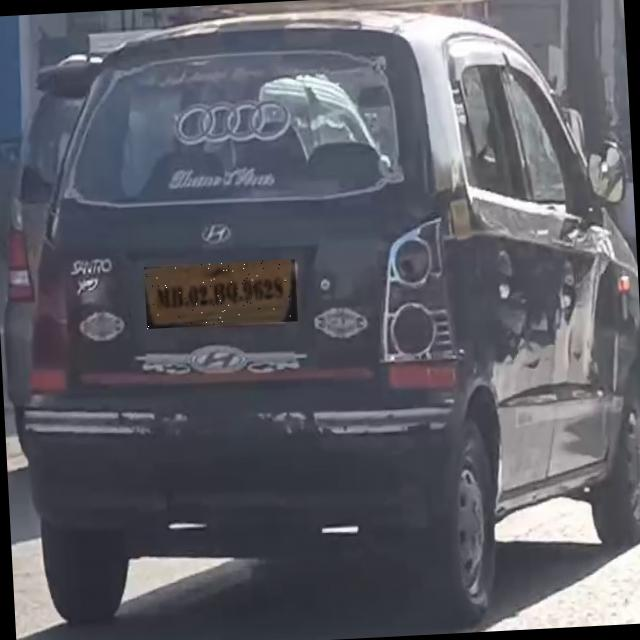Plate: (146, 260, 301, 330)
